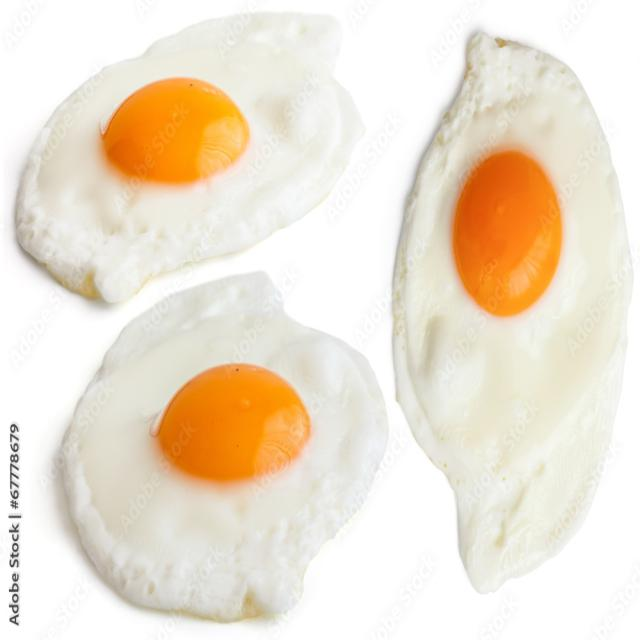Egg: (394, 34, 632, 592), (60, 272, 388, 621), (18, 11, 364, 302)
